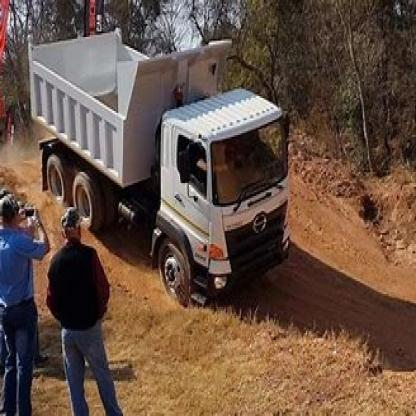dump_truck: (27, 22, 299, 309)
